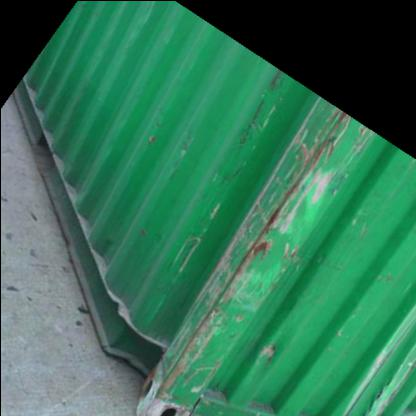Damage: (248, 112, 352, 314), (129, 284, 226, 410), (141, 116, 197, 178)
